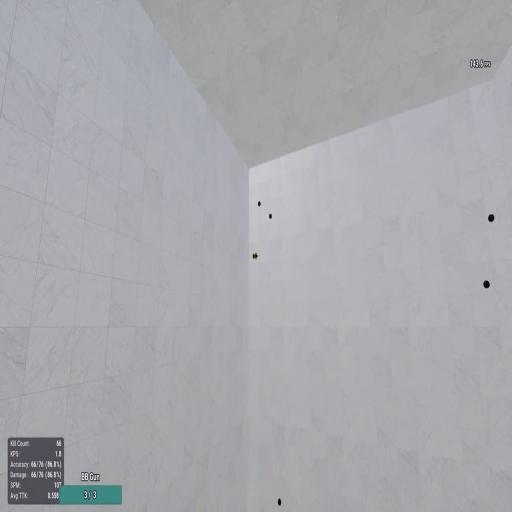Crosshair: (254, 251, 258, 260)
Target: (483, 278, 490, 290), (487, 214, 495, 222), (277, 497, 282, 506), (257, 200, 261, 208), (268, 213, 272, 219), (252, 252, 255, 259)
